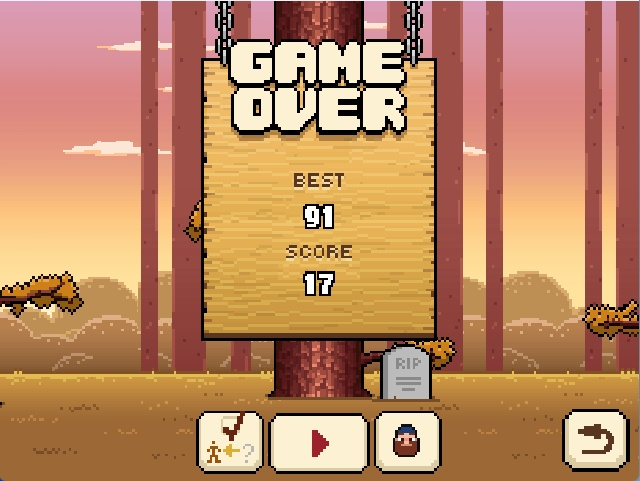timberman: (226, 34, 412, 141)
